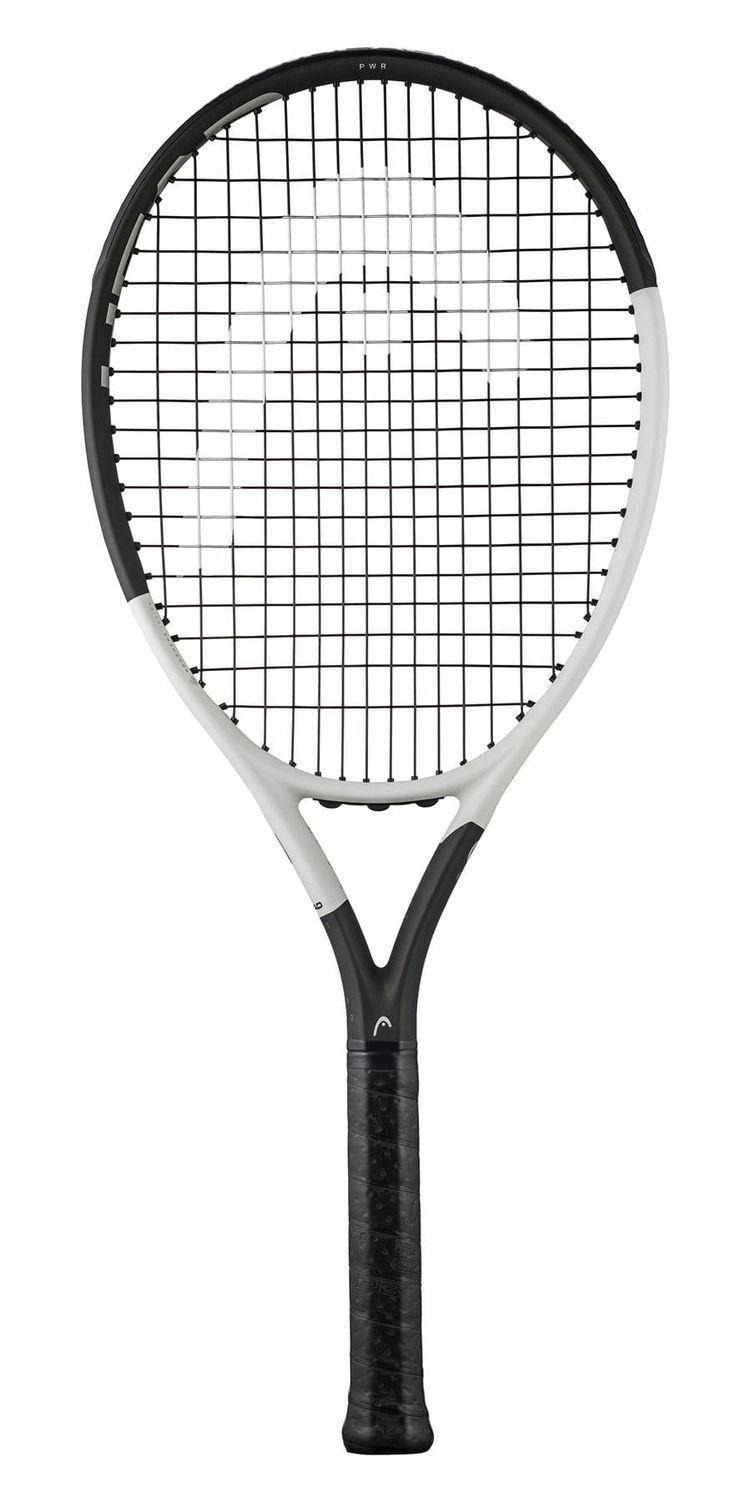Tennis-Racket: (76, 57, 678, 1424)
